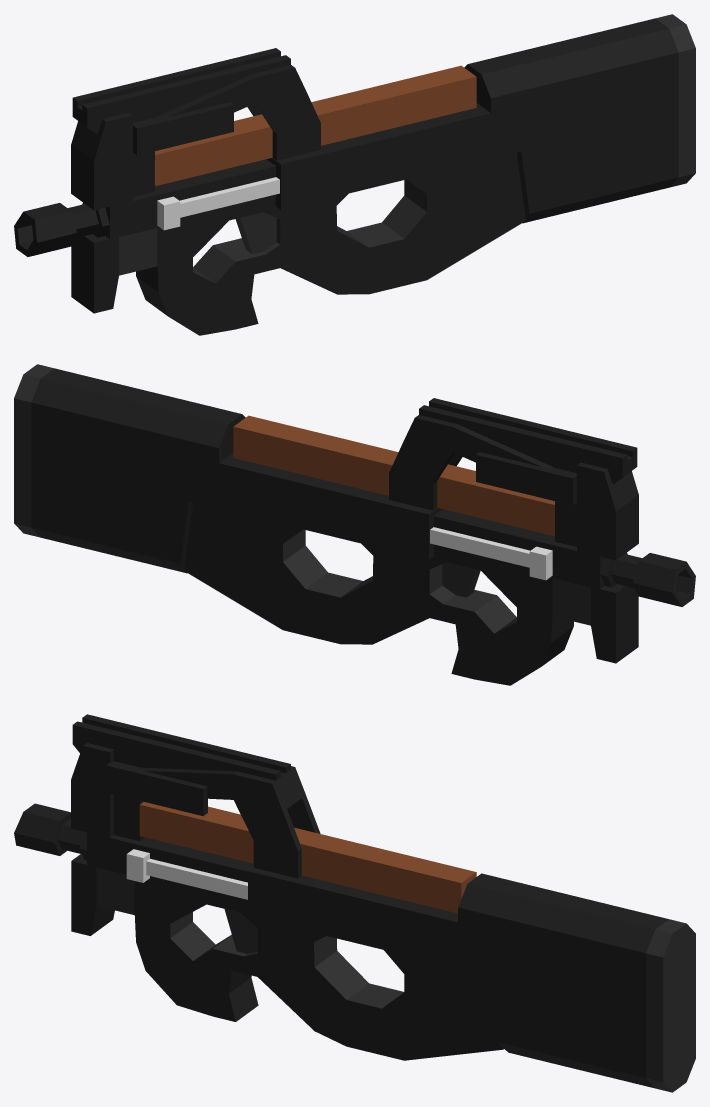
3 renders of one model, top to bottom at view 1: azimuth 30°, elevation 25°; view 2: azimuth 150°, elevation 25°; view 3: azimuth 330°, elevation 25°, orthographic.
Visible parts, largest first — view 1: stock.003, main.004, module.004, magazine.004, sight, barrel.008, module.005, bolt_left, trigger.013; view 2: stock.003, main.004, module.004, magazine.004, sight, barrel.008, module.005, bolt_right, trigger.013; view 3: stock.003, main.004, module.004, magazine.004, sight, module.005, barrel.008, bolt_left, trigger.013.
Part boxes in pixels (left/top/right/bottom): stock.003: left=266, top=14, right=695, bottom=223; main.004: left=71, top=152, right=525, bottom=335; module.004: left=71, top=65, right=320, bottom=239; magazine.004: left=155, top=65, right=476, bottom=186; sight: left=72, top=48, right=290, bottom=134; barrel.008: left=14, top=202, right=109, bottom=256; module.005: left=133, top=102, right=233, bottom=155; bolt_left: left=157, top=177, right=279, bottom=230; trigger.013: left=235, top=212, right=276, bottom=254; stock.003: left=14, top=364, right=443, bottom=573; main.004: left=184, top=502, right=638, bottom=685; module.004: left=389, top=415, right=638, bottom=589; magazine.004: left=233, top=415, right=554, bottom=536; sight: left=419, top=398, right=637, bottom=484; barrel.008: left=600, top=552, right=695, bottom=606; module.005: left=476, top=452, right=576, bottom=505; bolt_right: left=430, top=527, right=552, bottom=580; trigger.013: left=442, top=562, right=480, bottom=597; stock.003: left=248, top=867, right=695, bottom=1092; main.004: left=71, top=854, right=503, bottom=1060; module.004: left=71, top=743, right=320, bottom=904; magazine.004: left=139, top=802, right=476, bottom=913; sight: left=72, top=714, right=290, bottom=780; module.005: left=106, top=762, right=207, bottom=816; barrel.008: left=14, top=803, right=86, bottom=860; bolt_left: left=126, top=849, right=247, bottom=899; trigger.013: left=224, top=909, right=257, bottom=953.
Size of the model in its own units: 49.53 by 506 by 186.
